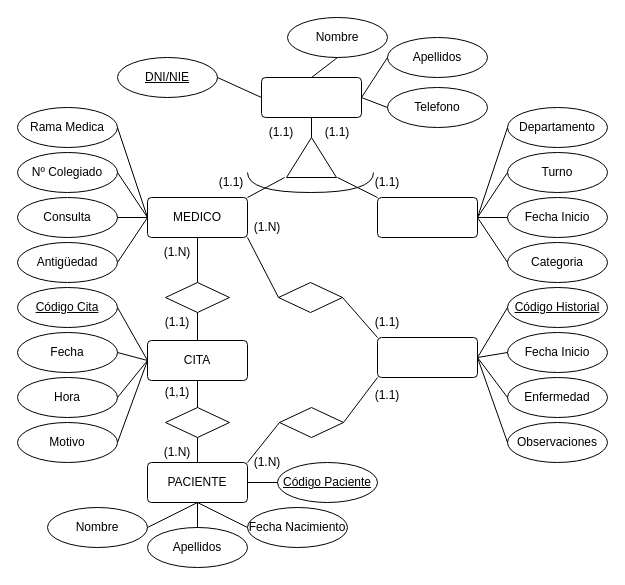
Image size: 625x585. Some labels were removed from this diagram. The box of each missing label's shape, as (x1, y1, x2, y2) in pixels:
atender: (164, 282, 230, 312)
ENFERMERO: (376, 196, 478, 238)
gestionar: (278, 282, 342, 312)
HISTORIAL MEDICO: (376, 336, 478, 378)
ISA: (286, 136, 336, 178)
PERSONAL: (260, 76, 362, 118)
solicita: (164, 406, 230, 438)
tener: (278, 406, 344, 438)
